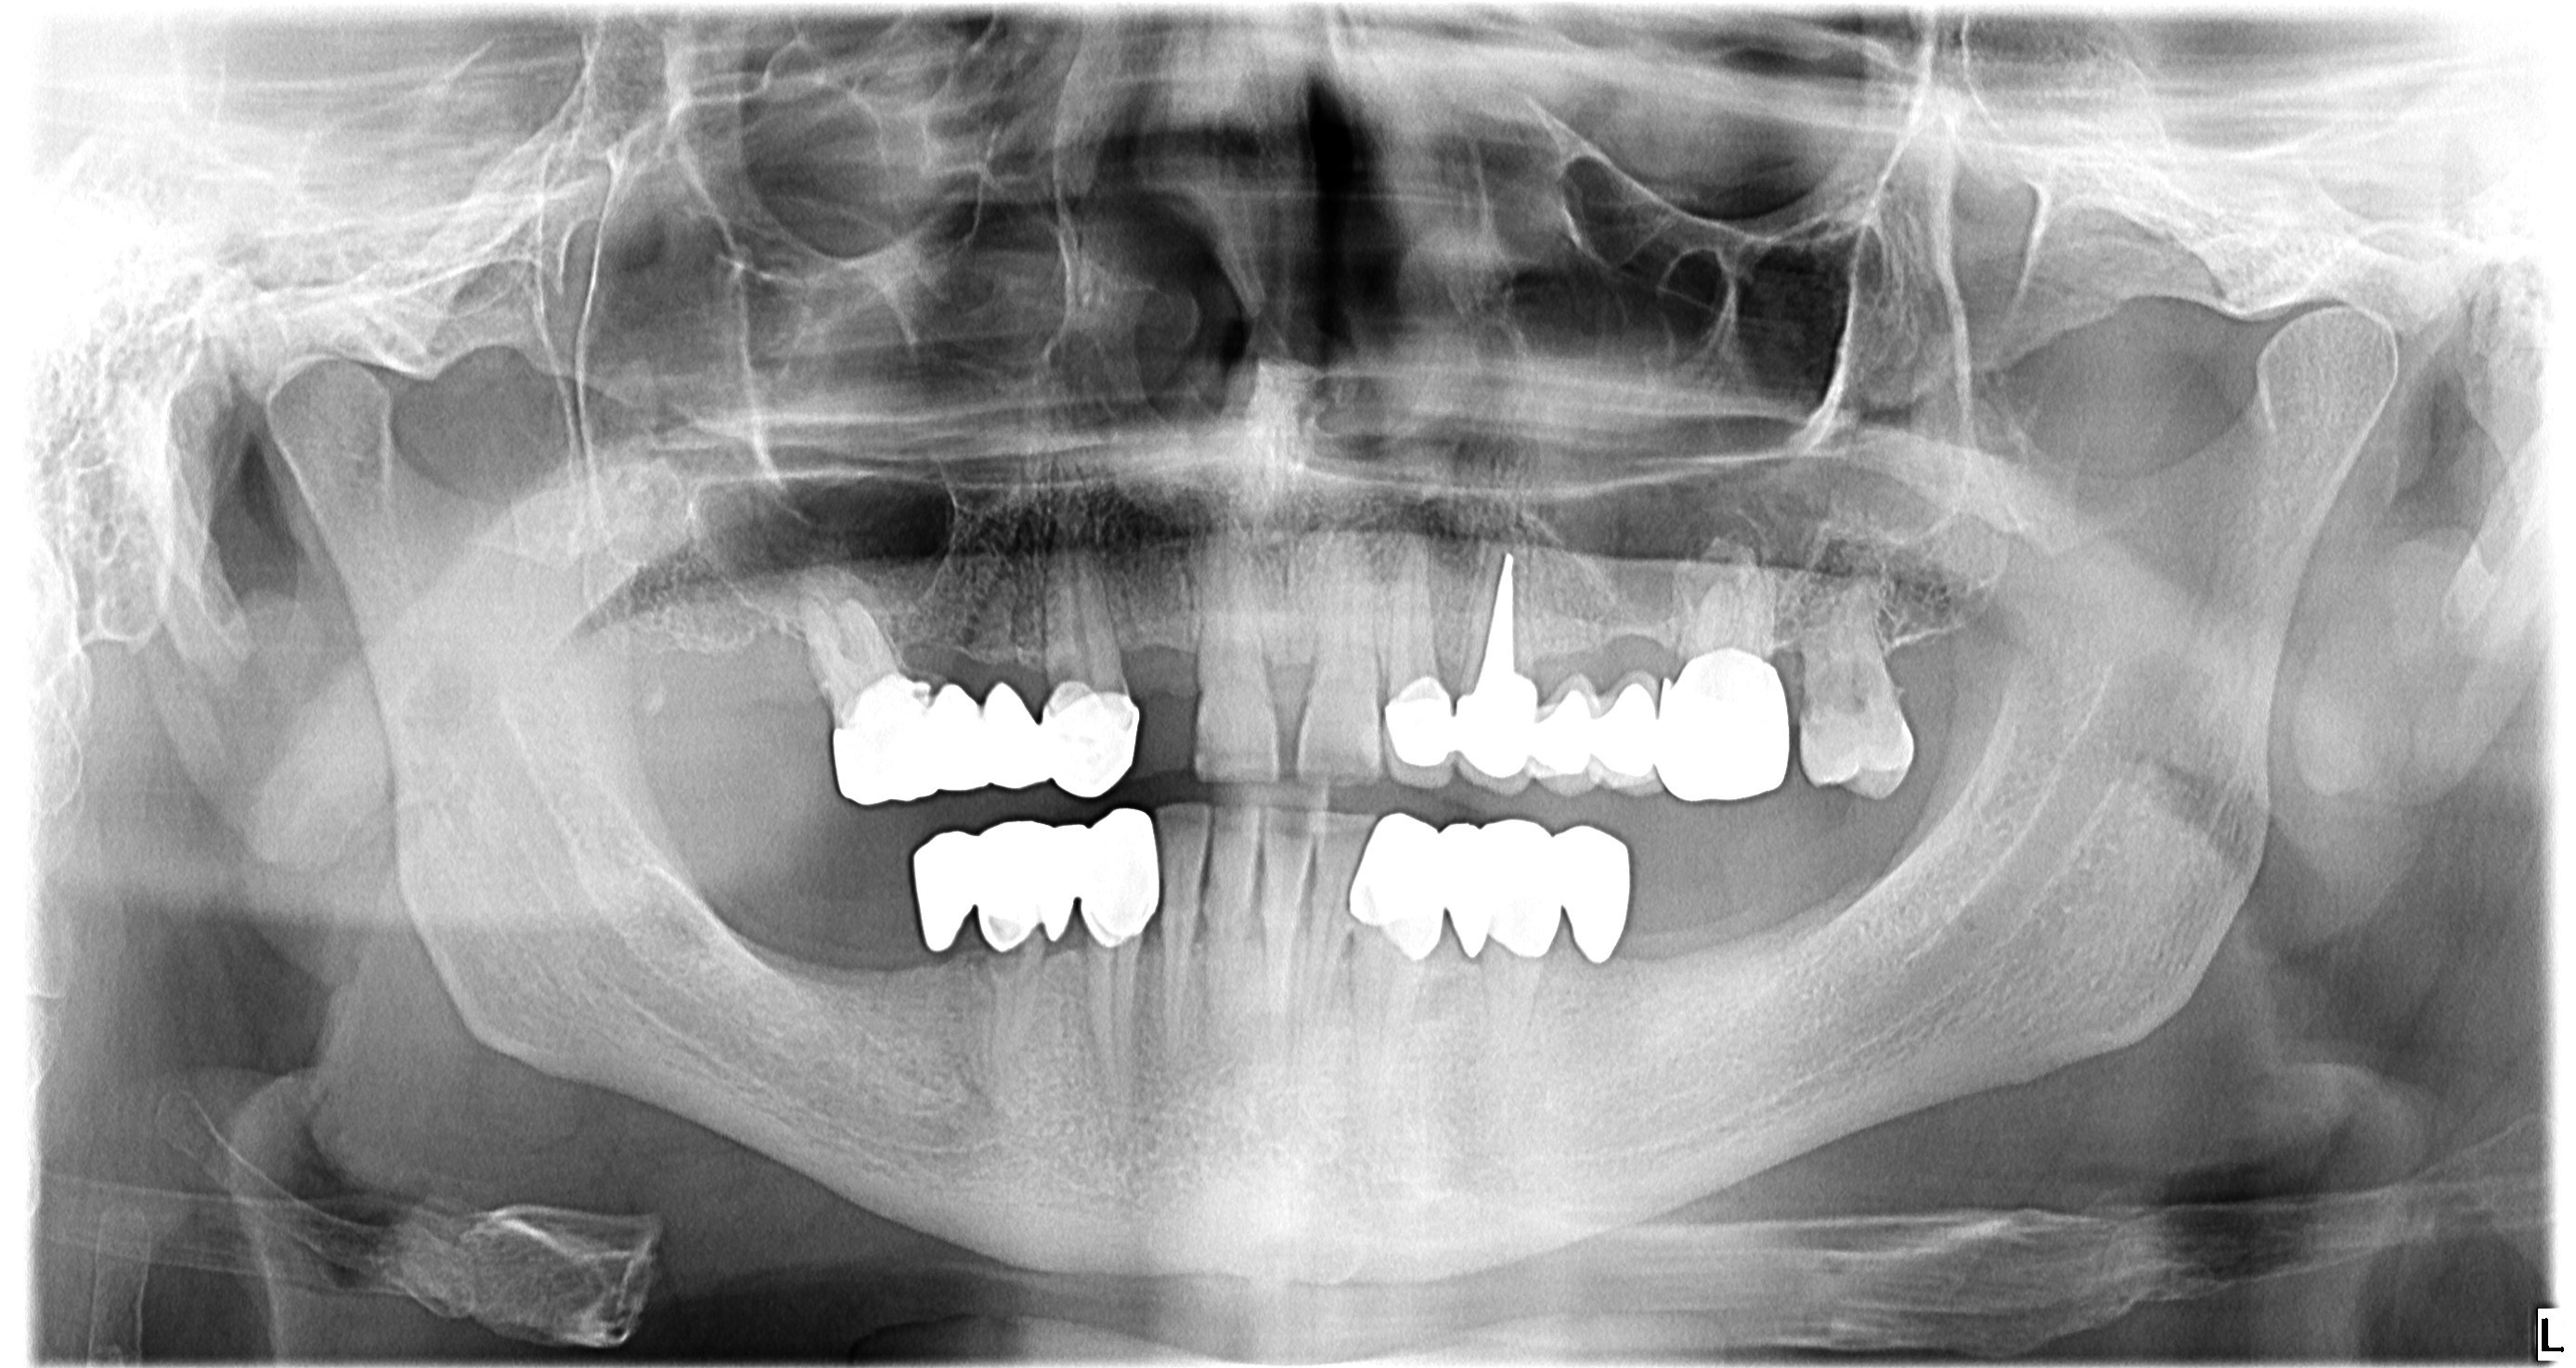BON: (1097, 598, 1215, 704), (727, 598, 837, 707), (1738, 615, 1842, 716), (862, 615, 978, 697), (903, 903, 1003, 993), (1591, 612, 1695, 698), (1012, 911, 1119, 990), (1867, 615, 1942, 707)
END: (1474, 530, 1528, 690)
PRR: (1377, 641, 1797, 814), (1319, 806, 1637, 981), (799, 664, 1150, 811), (889, 806, 1172, 956)
